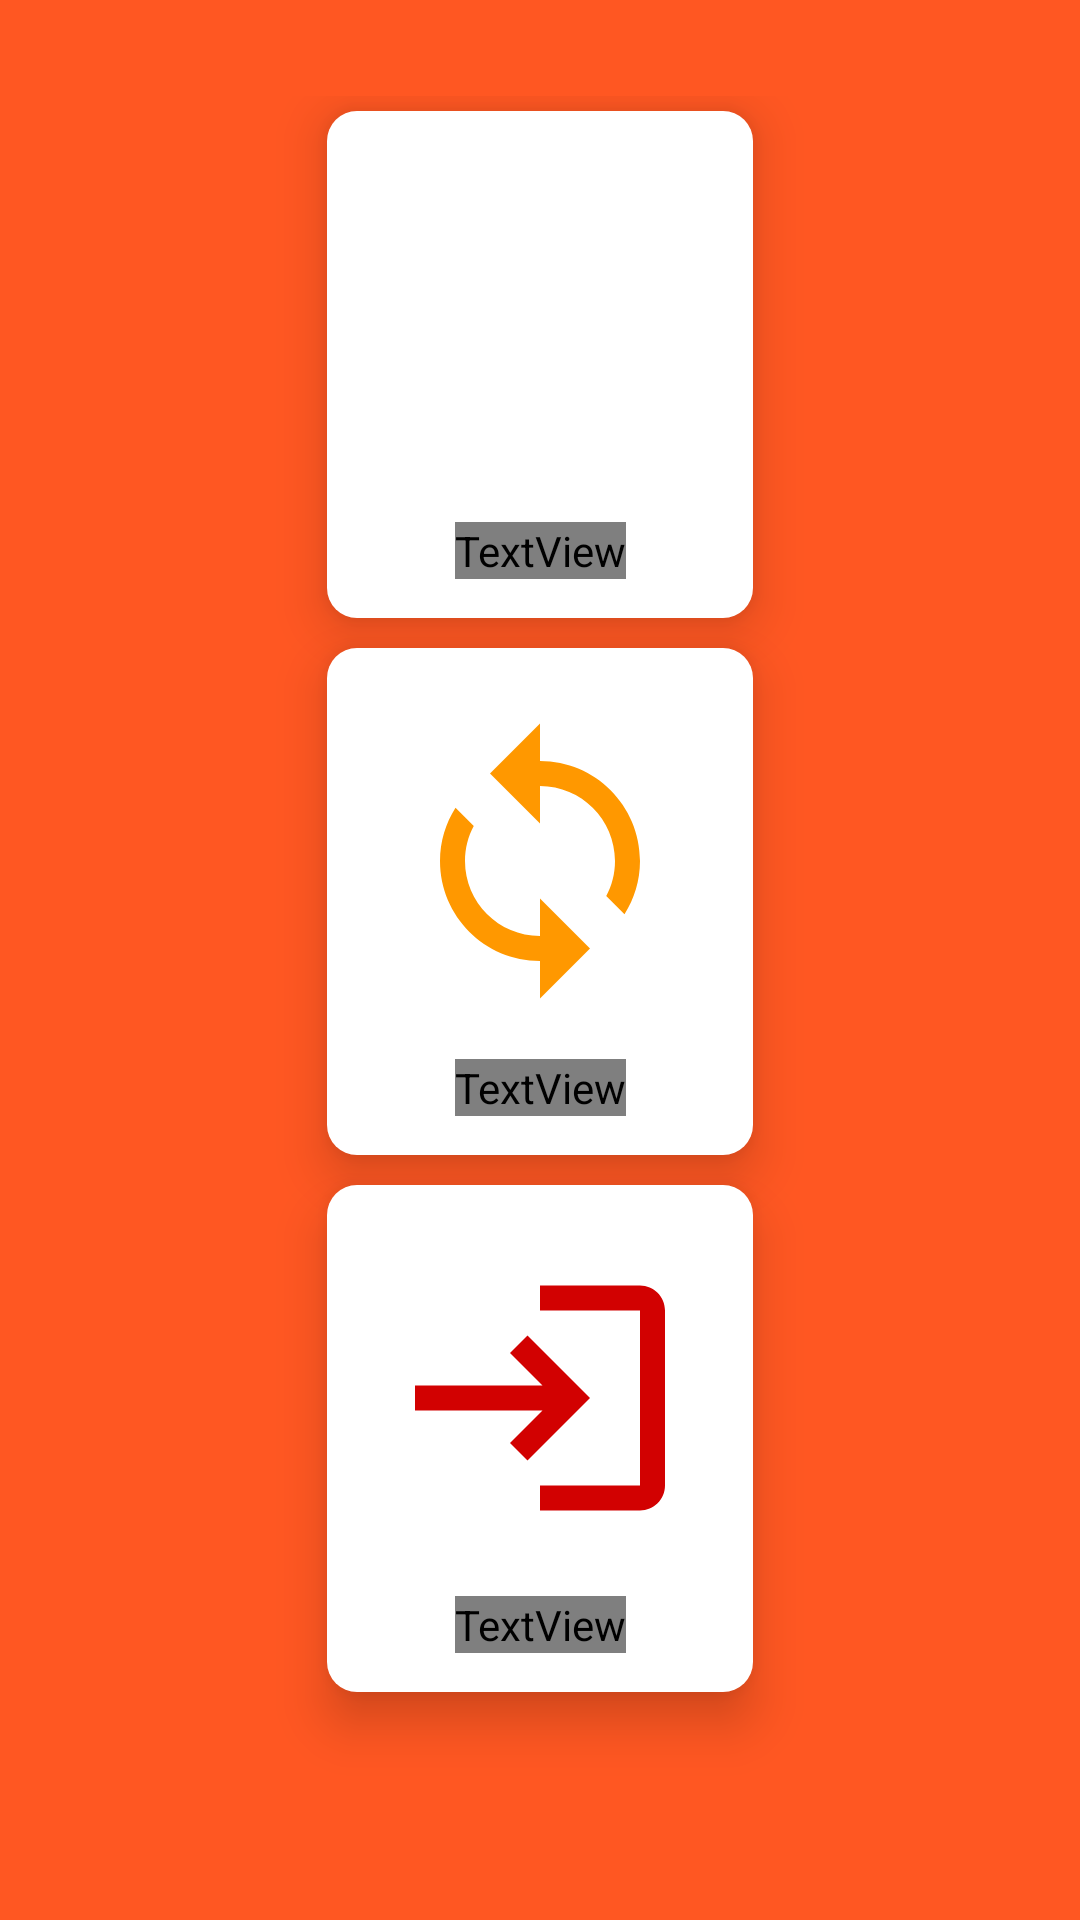

Locate icon controls on the screen. Image size 1080px x 1920px, boxes as (x1, y1, x2, y2).
sync: (440, 723, 640, 999)
